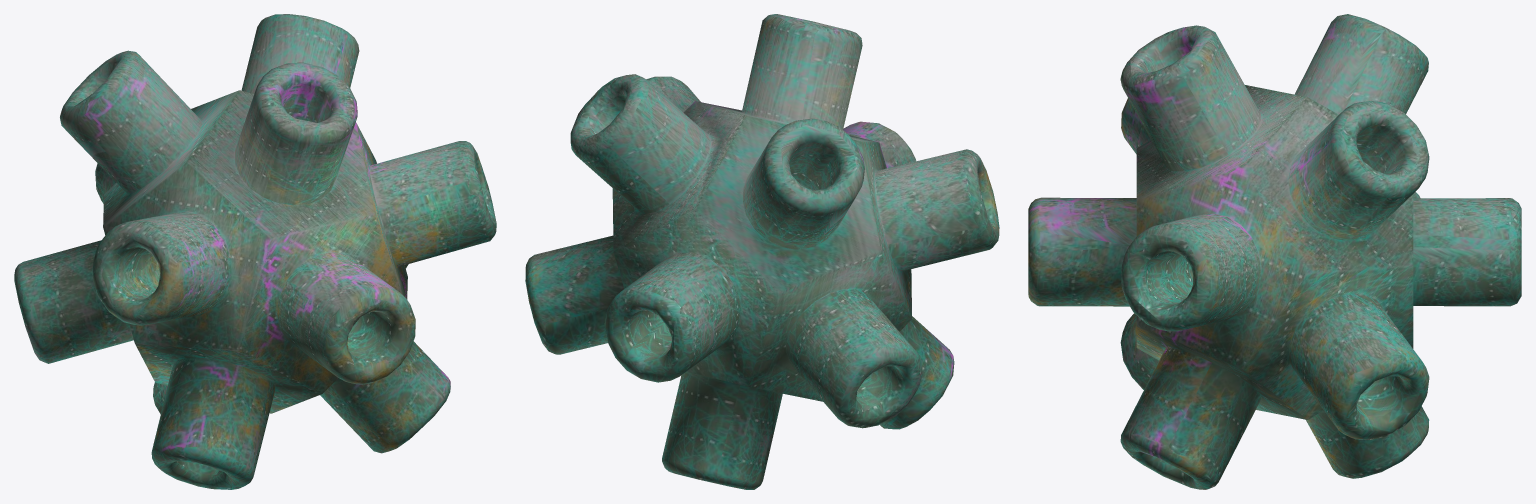
File: dode.glb
3 renders of one model, left to right at view 1: azimuth 30°, elevation 25°; view 2: azimuth 150°, elevation 25°; view 3: azimuth 270°, elevation 25°, orthographic. The views are drawn at different scales.
Parts seen in each view (by area): view 1: Object.1; view 2: Object.1; view 3: Object.1.
Boxes of the visible parts, x1,y1,x2,y2 form: Object.1: [14, 14, 496, 489]; Object.1: [525, 14, 999, 489]; Object.1: [1028, 14, 1521, 489].
Size of the model in its own units: 1.48 by 1.53 by 1.57.
1 material, 1 textured.
